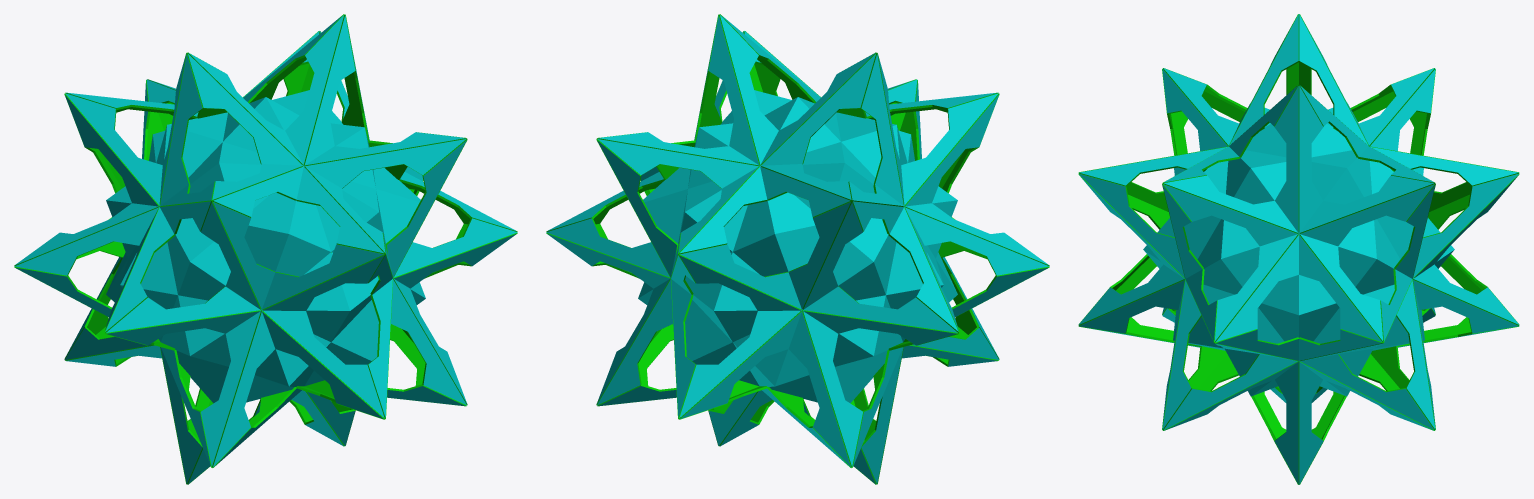
Rendered from GreatDodecicosacronS.glb.
The picture shows the model from 3 angles, left to right: view 1: azimuth 30°, elevation 25°; view 2: azimuth 150°, elevation 25°; view 3: azimuth 270°, elevation 25°; orthographic projection. The views are drawn at different scales.
Visible parts, largest first — view 1: root, Mesh_0.013; view 2: root, Mesh_0.013; view 3: root, Mesh_0.013.
Part boxes in pixels (bbox=[...]): root: bbox=[14, 14, 517, 484]; Mesh_0.013: bbox=[106, 90, 425, 403]; root: bbox=[546, 14, 1049, 484]; Mesh_0.013: bbox=[638, 90, 957, 403]; root: bbox=[1078, 14, 1519, 484]; Mesh_0.013: bbox=[1143, 102, 1454, 396].
Bounding box in the file's own units: 10.15 × 10.15 × 10.15.
